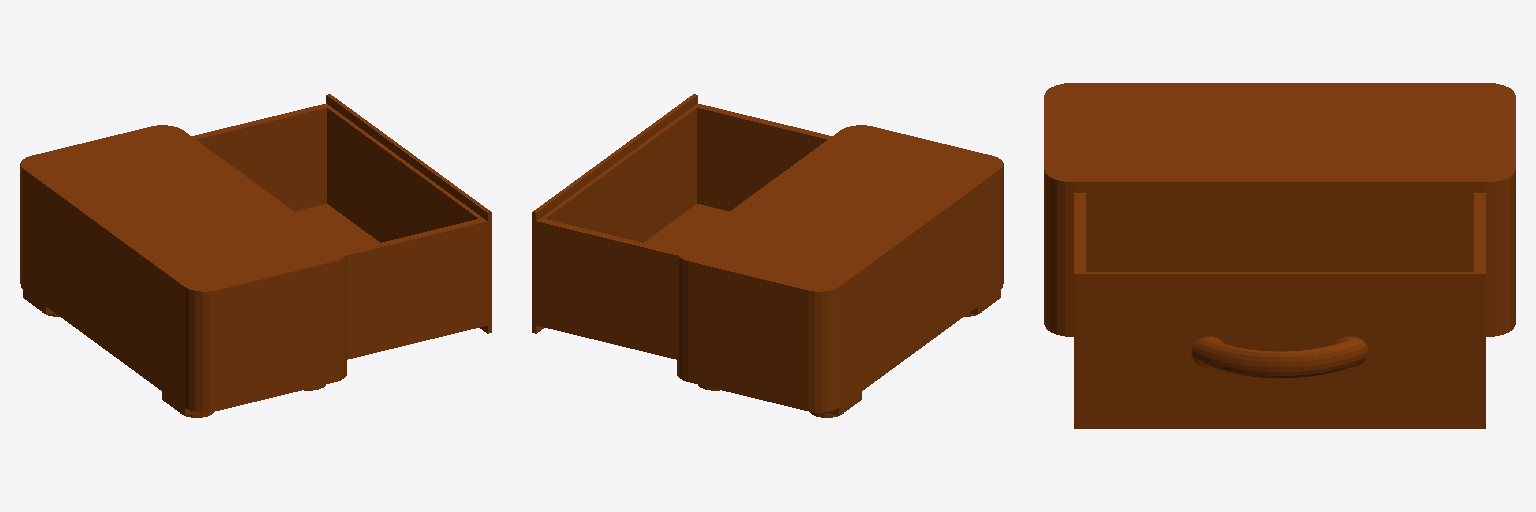
The robot description file, URDF, robot "drawer":
<?xml version="1.0" encoding="utf-8"?>
<robot name="drawer">

  <!-- Liên kết gốc thế giới -->
  <link name="world"/>

  <!-- Joint cố định để dịch toàn bộ robot lên theo trục Y 10 cm -->
  <joint name="world_to_base" type="fixed">
    <origin xyz="-0.6 0.25 0" rpy="0 0 0"/>
    <parent link="world"/>
    <child link="base_link"/>
  </joint>

  <link name="base_link">
    <inertial>
      <origin xyz="0.170762501727078 -0.35 0.131563760738117" rpy="0 0 0" />
      <mass value="13.33460961599" />
      <inertia ixx="1.15061115937014" ixy="-2.04729931403782E-16"
               ixz="0.00511983500697809" iyy="0.406567555775539"
               iyz="1.94842027610842E-17" izz="1.17764867637739" />
    </inertial>

    <visual>
      <origin xyz="0 0 0" rpy="0 0 0" />
      <geometry>
        <mesh filename="meshes/base_link.STL" />
      </geometry>
      <material name="brown">
        <color rgba="0.545 0.270 0.074 1.0"/>
      </material>
    </visual>

    <collision>
      <origin xyz="0 0 0" rpy="0 0 0" />
      <geometry>
        <mesh filename="meshes/base_link.STL" />
      </geometry>
    </collision>
  </link>

  <link name="link1">
    <inertial>
      <origin xyz="0.202240478511955 -0.349999898571107 0.0901810418976017" rpy="0 0 0" />
      <mass value="9.9706439379001" />
      <inertia ixx="0.623547679310975" ixy="-1.64996382534564E-07"
               ixz="-0.00257596309201247" iyy="0.285043962775198"
               iyz="-7.85158305747548E-08" izz="0.776947982394923" />
    </inertial>

    <visual>
      <origin xyz="0 0 0" rpy="0 0 0" />
      <geometry>
        <mesh filename="meshes/link1.STL" />
      </geometry>
      <material name="brown">
        <color rgba="0.545 0.270 0.074 1.0"/>
      </material>
    </visual>

    <collision>
      <origin xyz="0 0 0" rpy="0 0 0" />
      <geometry>
        <mesh filename="meshes/link1.STL" />
      </geometry>
    </collision>
  </link>

  <joint name="Joint" type="prismatic">
    <origin xyz="0.379999999999998 0 0.0199999999999975" rpy="0 0 0" />
    <parent link="base_link" />
    <child link="link1" />
    <axis xyz="-1 0 0" />
    <limit lower="0" upper="0.36" effort="100" velocity="0.15" />
    <dynamics damping="1" friction="5" />
  </joint>

</robot>

--- Render facts (derived) ---
Views: 3 orthographic renders of the robot side by side, from view 1: azimuth 30°, elevation 25°; view 2: azimuth 150°, elevation 25°; view 3: azimuth 270°, elevation 25°.
Model drawer with 3 links and 2 joints (1 prismatic, 1 fixed), rooted at world, posed every joint at zero.
Links seen in each view (by area): view 1: base_link, link1; view 2: base_link, link1; view 3: link1, base_link.
Link boxes in pixels (box(x1,y1,x2,y2)): base_link: box(20, 125, 346, 417); link1: box(192, 94, 491, 359); base_link: box(677, 125, 1003, 417); link1: box(532, 94, 831, 359); link1: box(1074, 193, 1485, 428); base_link: box(1044, 83, 1515, 336).
Size in the robot's own frame: 0.8326 by 0.8 by 0.33 metres.
Meshes: 2 distinct files referenced, 2 mesh visuals loaded (2 binary STL).